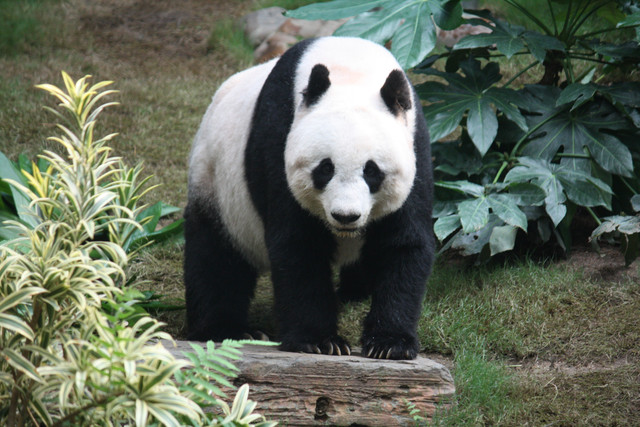panda: (183, 32, 434, 363)
